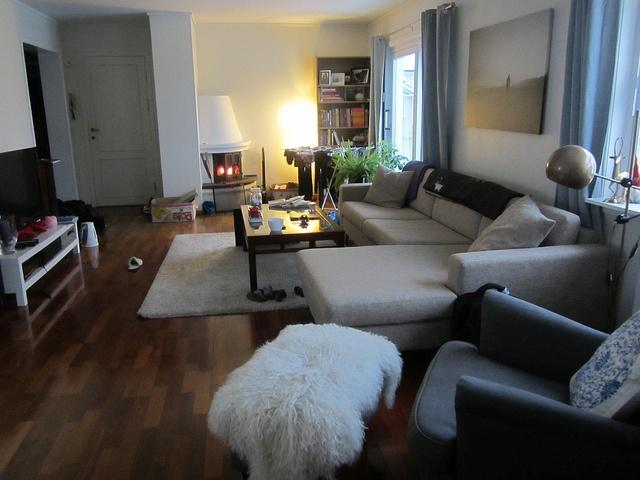Meja: (239, 199, 347, 291)
Rak: (314, 54, 371, 149)
